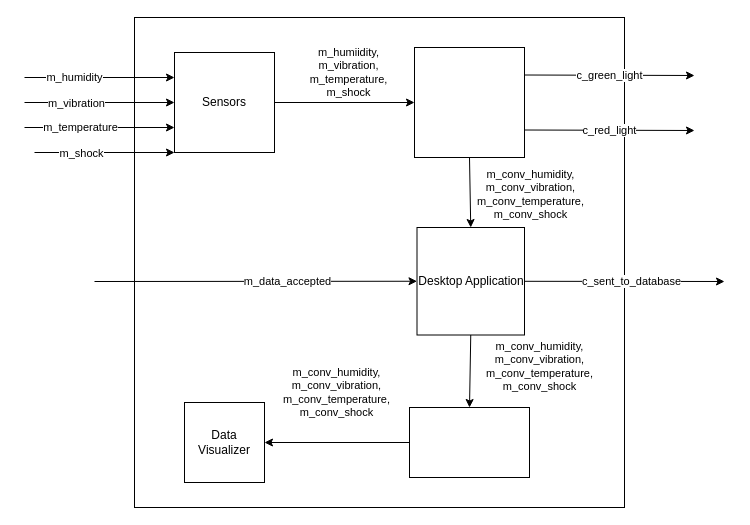
Some shapes in this 750 by 525 pixel diagram are drawn without their labels. The shapes that lost their labels are listed below. From the top down, each one's centre as x and y in pixels, then its label:
point 469,102: Arduino Board
point 469,442: Database
